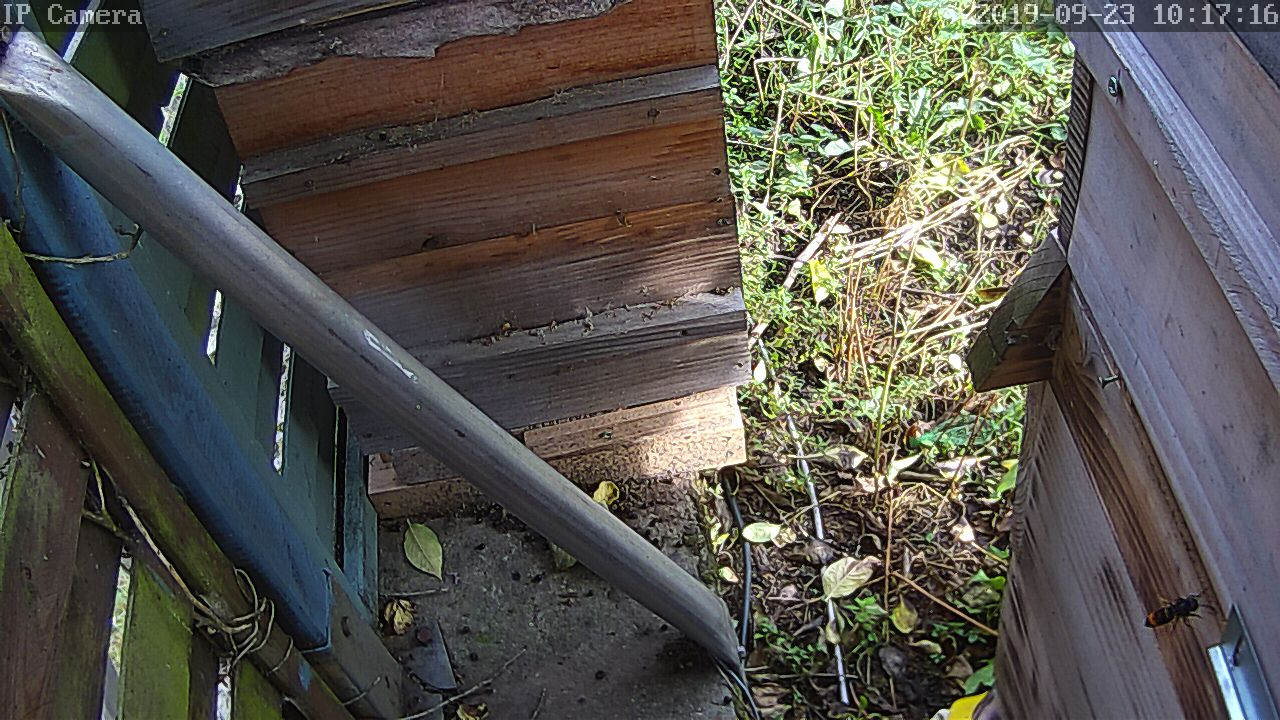hornet: (1137, 588, 1212, 635)
